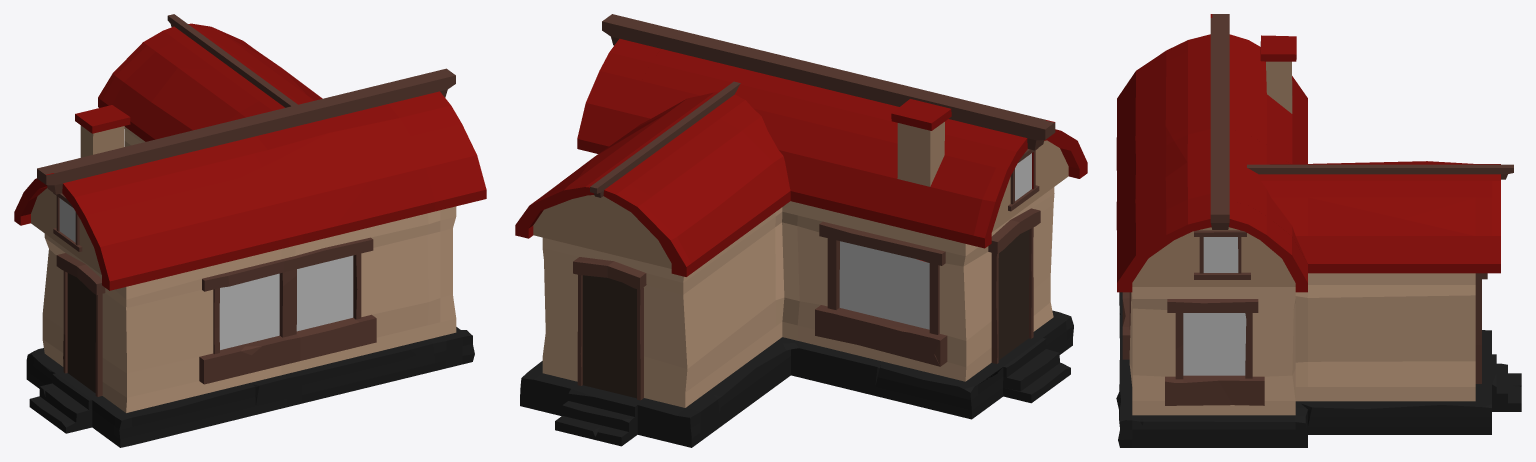
The model's file is building1.fbx.
3 renders of one model, left to right at view 1: azimuth 30°, elevation 25°; view 2: azimuth 150°, elevation 25°; view 3: azimuth 270°, elevation 25°, orthographic. The views are drawn at different scales.
Parts seen in each view (by area): view 1: Cube; view 2: Cube; view 3: Cube.
Part boxes in pixels (left/top/right/bottom): Cube: left=14, top=14, right=486, bottom=447; Cube: left=515, top=14, right=1087, bottom=447; Cube: left=1116, top=14, right=1521, bottom=447.
Size of the model in its own units: 9171 by 5556 by 7830.
